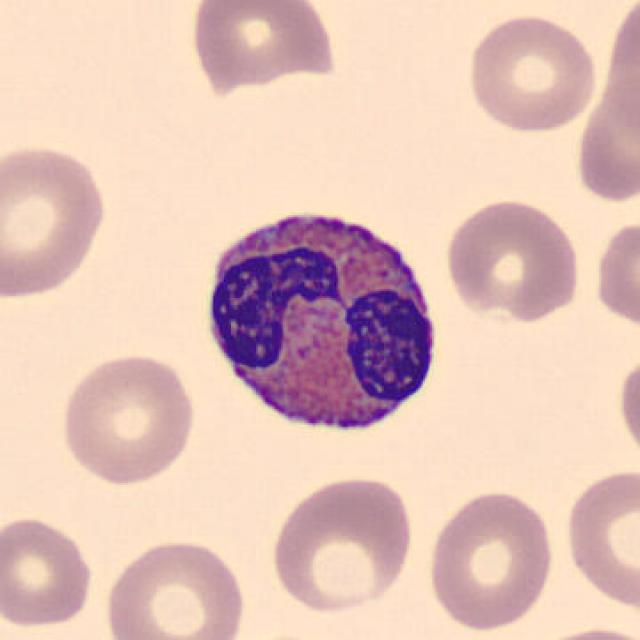Eosinophil: (194, 196, 452, 455)
RBC: (266, 471, 418, 617), (423, 485, 560, 635), (57, 349, 201, 488), (441, 194, 585, 324), (0, 140, 112, 304), (462, 10, 601, 136), (99, 534, 249, 640), (185, 0, 339, 99), (560, 464, 638, 615), (0, 511, 98, 631), (570, 66, 640, 206), (590, 213, 638, 337), (613, 347, 640, 471), (521, 622, 640, 640)
